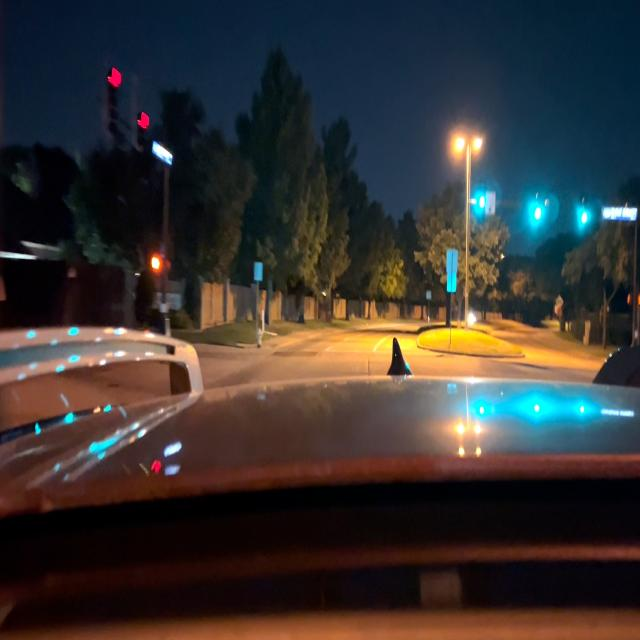back-of-sign: (449, 248, 458, 291)
